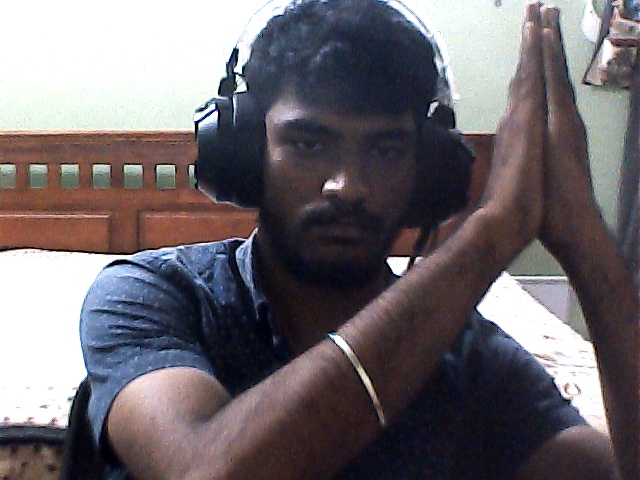Sign: (483, 4, 611, 276)
